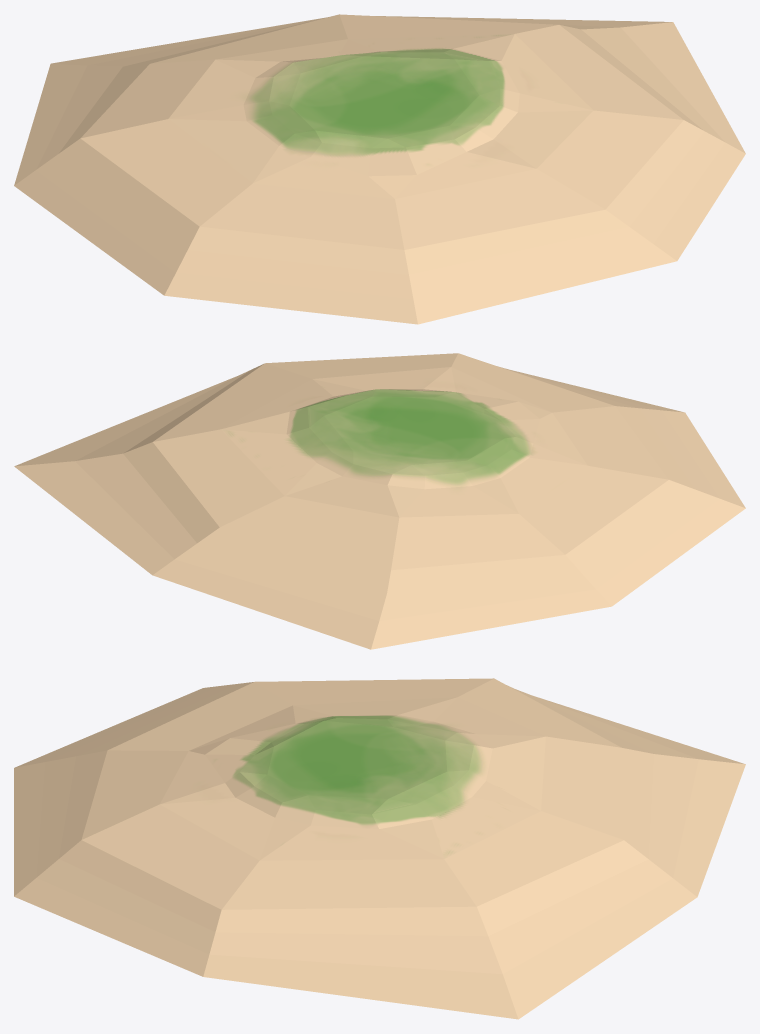
Rendered from island.glb.
3 renders of one model, top to bottom at view 1: azimuth 30°, elevation 25°; view 2: azimuth 150°, elevation 25°; view 3: azimuth 270°, elevation 25°, orthographic. The views are drawn at different scales.
Parts seen in each view (by area): view 1: Cube; view 2: Cube; view 3: Cube.
Part boxes in pixels (x1,y1,x2,y2): Cube: (14,14,745,324); Cube: (14,353,745,649); Cube: (14,678,745,1019).
Bounding box in the file's own units: 34.04 × 3.85 × 31.91.
1 material, 1 textured.
